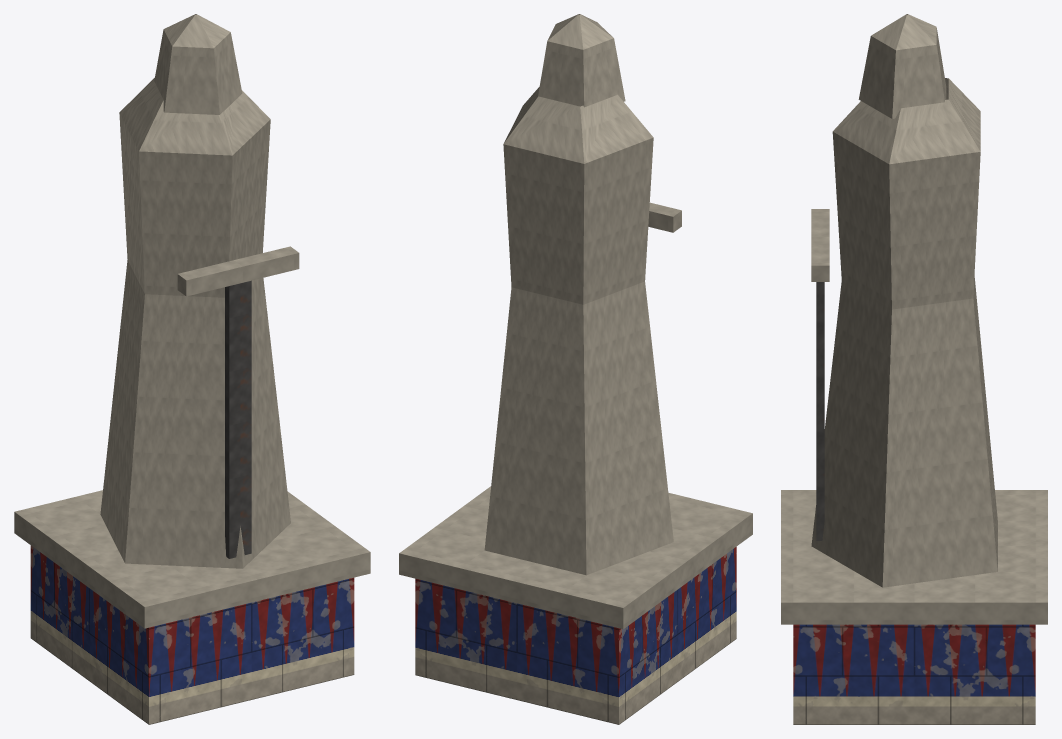
Rendered from Statue_Hall_Hooded_1_LOD2.gltf.
The picture shows the model from 3 angles, left to right: view 1: azimuth 30°, elevation 25°; view 2: azimuth 150°, elevation 25°; view 3: azimuth 270°, elevation 25°; orthographic projection. The views are drawn at different scales.
Parts seen in each view (by area): view 1: Statue_Hall_Hooded_1_LOD2; view 2: Statue_Hall_Hooded_1_LOD2; view 3: Statue_Hall_Hooded_1_LOD2.
Boxes of the visible parts, x1,y1,x2,y2 form: Statue_Hall_Hooded_1_LOD2: (14,14,370,724); Statue_Hall_Hooded_1_LOD2: (399,14,752,724); Statue_Hall_Hooded_1_LOD2: (781,14,1047,724).
Bounding box in the file's own units: 4.4 × 12 × 4.4.
Materials: 3 (3 with a texture image).
